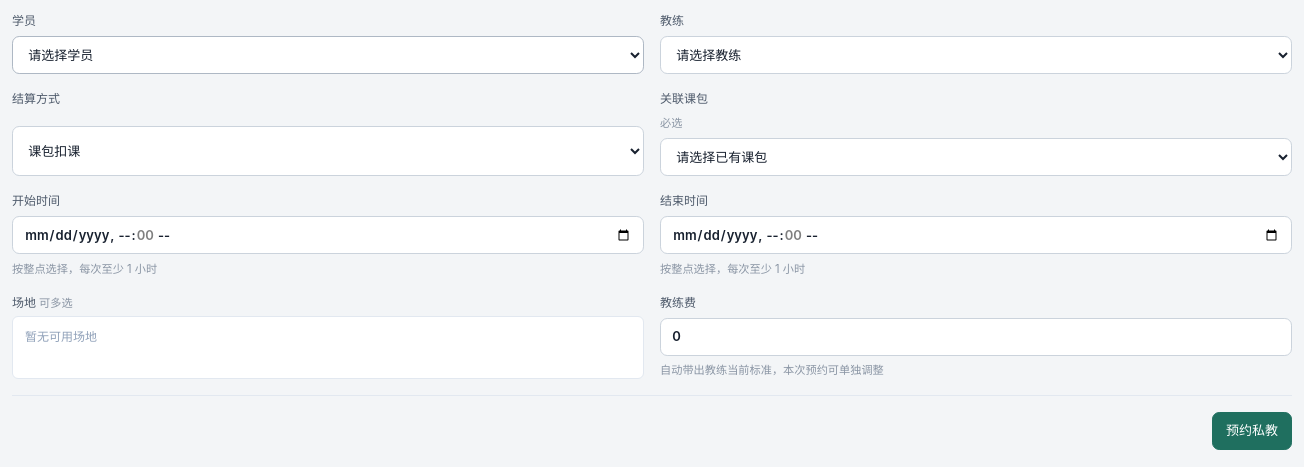
it: private lessons › fills the private lesson fee from the selected coach rate
Select "陈教练" in the dropdown labelled "教练": [976, 55] box [660,36,1292,74]
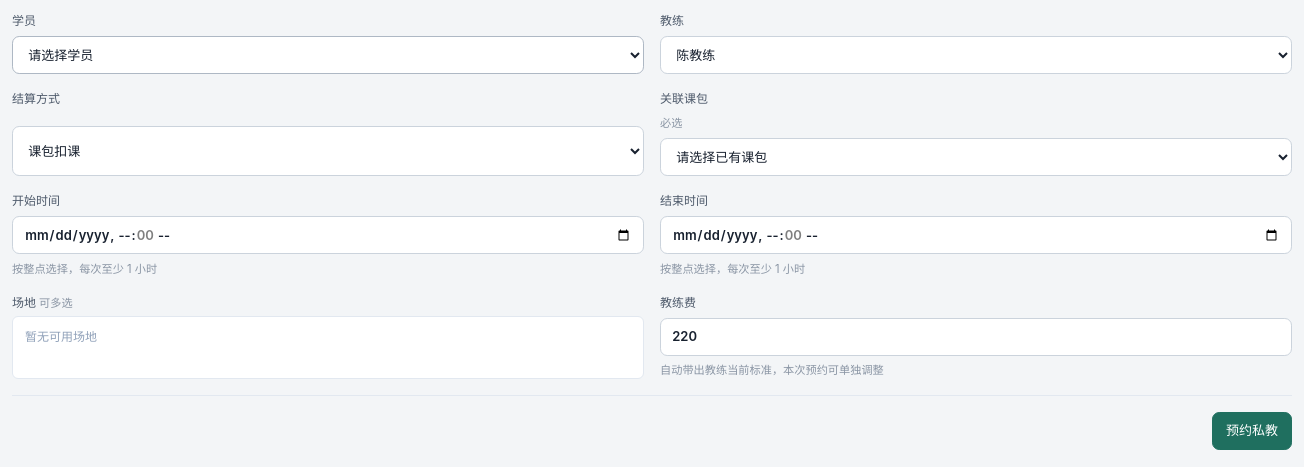
Expected: the number field labelled "教练费 自动带出教练当前标准，本次预约可单独调整" holds "220", [660,318,1292,356]
